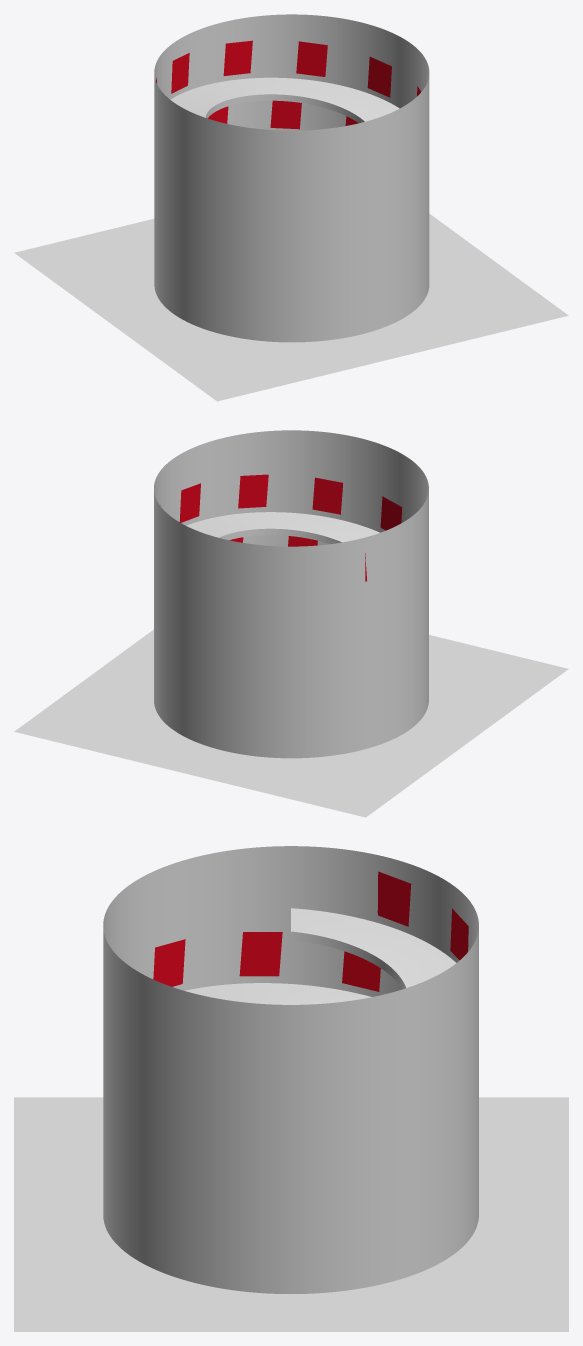
The model's file is staresTexture.gltf.
3 renders of one model, top to bottom at view 1: azimuth 30°, elevation 25°; view 2: azimuth 150°, elevation 25°; view 3: azimuth 270°, elevation 25°, orthographic. The views are drawn at different scales.
Visible parts, largest first — view 1: Circle, Plane.002, Plane.001, Images.004, Images.003, Images.015, Images.005, Images.002; view 2: Circle, Plane.002, Plane.001, Images.008, Images.007, Images.006, Images.009; view 3: Circle, Plane.002, Plane.001, Images.011, Images.001, Images.010, Images.012, Images.002.
Boxes of the visible parts, x1,y1,x2,y2 form: Circle: (154,14,429,342); Plane.002: (14,213,568,401); Plane.001: (170,77,399,123); Images.004: (296,41,327,76); Images.003: (223,40,252,75); Images.015: (270,100,301,129); Images.005: (367,56,391,97); Images.002: (171,53,189,93); Circle: (154,430,428,758); Plane.002: (14,629,568,817); Plane.001: (186,512,379,544); Images.008: (312,477,343,514); Images.007: (238,474,268,508); Images.006: (179,483,200,522); Images.009: (380,496,402,530); Circle: (103,846,478,1293); Plane.002: (14,1097,568,1331); Plane.001: (184,908,456,1004); Images.011: (239,932,282,976); Images.001: (377,871,411,926); Images.010: (153,939,185,986); Images.012: (342,951,380,991); Images.002: (450,908,468,960).
Bounding box in the file's own units: 266 × 154 × 266.
